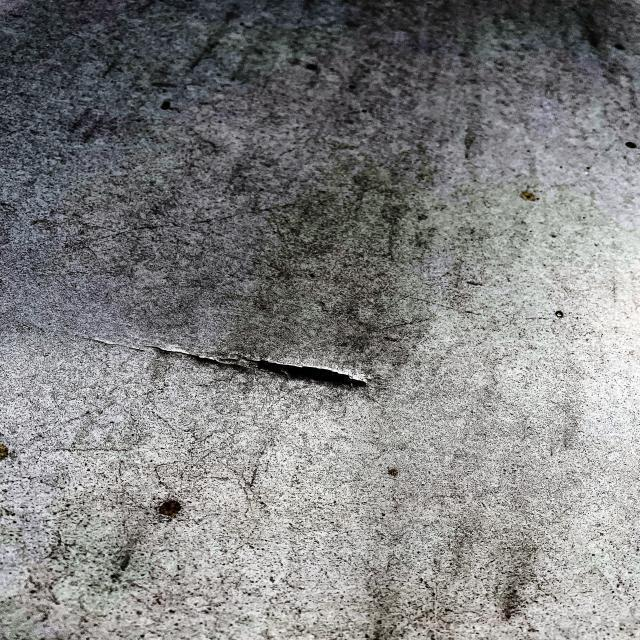crack: (149, 341, 348, 396)
